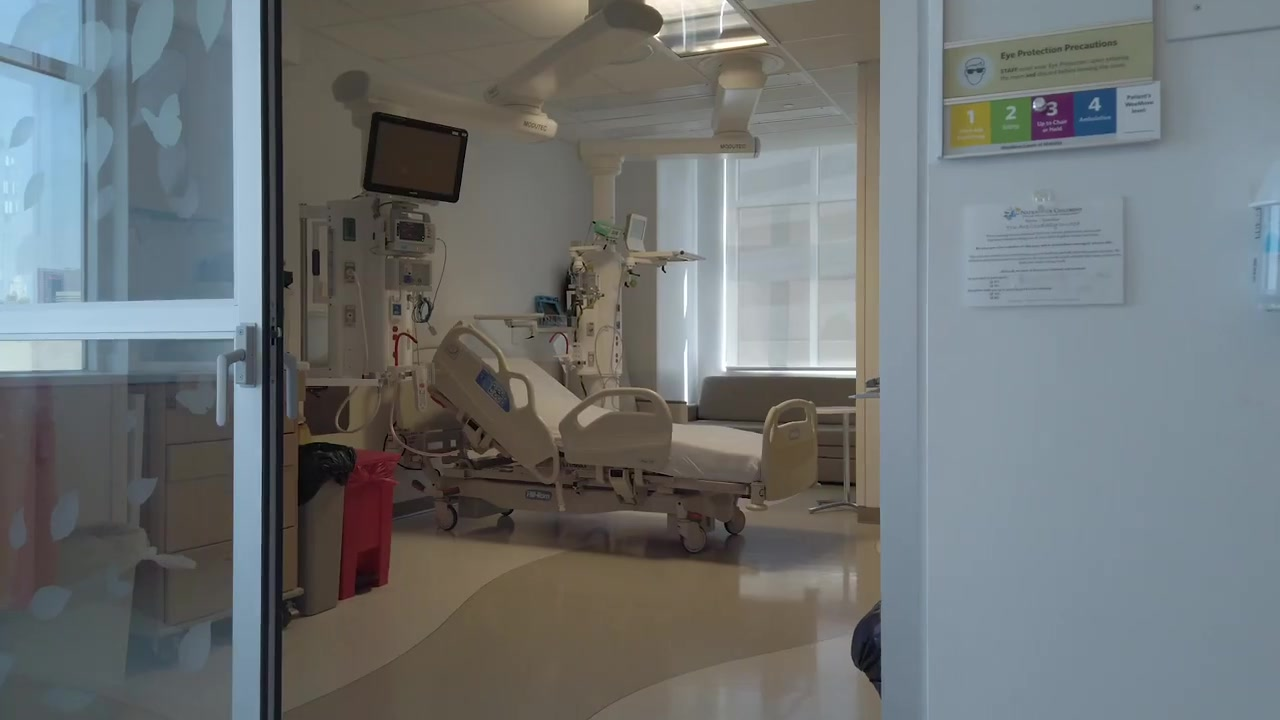bedrail: (430, 321, 560, 486), (558, 387, 673, 469)
bedside_monitor: (361, 111, 469, 205)
dispenser: (1247, 162, 1280, 309)
door_handle: (215, 315, 259, 427)
foot_board: (761, 399, 820, 501)
hospital_bed: (414, 321, 820, 555)
medical_drawer: (135, 352, 304, 667)
overbed_table: (814, 405, 857, 510)
sofa: (688, 374, 855, 487)
waste_bin: (298, 442, 356, 617), (341, 448, 400, 601)
